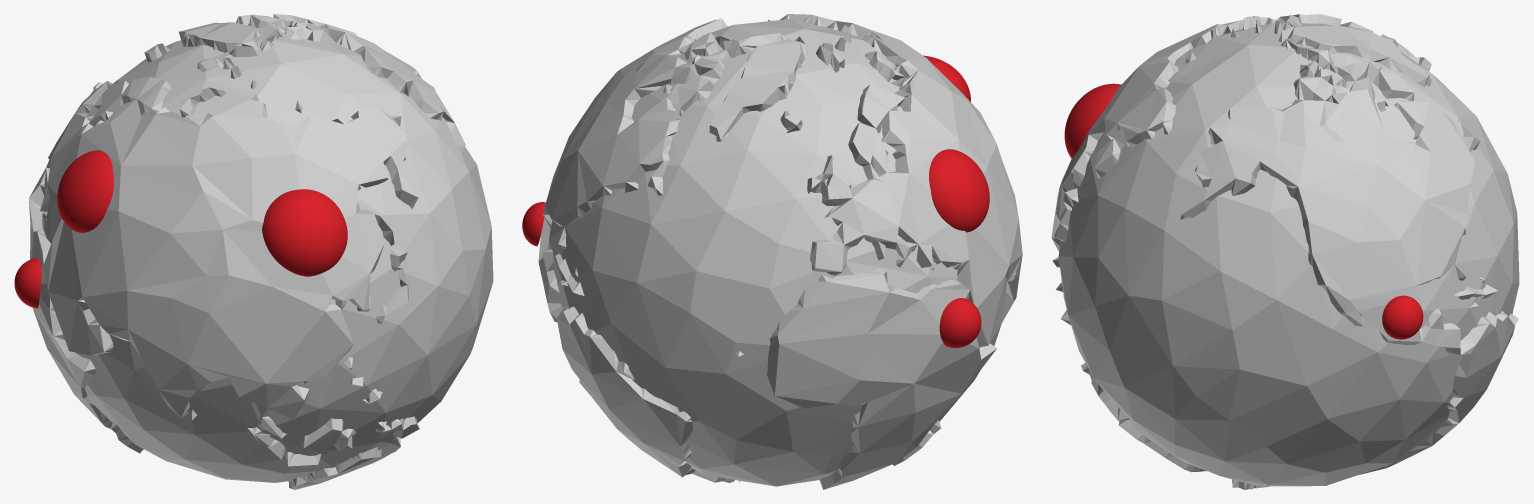
File: lowpoly_earth_edited.fbx
3 renders of one model, left to right at view 1: azimuth 30°, elevation 25°; view 2: azimuth 150°, elevation 25°; view 3: azimuth 270°, elevation 25°, orthographic.
Parts seen in each view (by area): view 1: node_id7, node_id5, node_id71 (×2), node_id9; view 2: node_id7, node_id5, node_id71 (×2), node_id9, node_id77; view 3: node_id5, node_id7, node_id71, node_id77.
Boxes of the visible parts, x1=… form: node_id7: x1=29, y1=14, x2=465, y2=489; node_id5: x1=42, y1=26, x2=493, y2=482; node_id71 (×2): x1=57, y1=150, x2=347, y2=276; node_id9: x1=14, y1=258, x2=41, y2=308; node_id7: x1=538, y1=14, x2=1022, y2=489; node_id5: x1=548, y1=18, x2=1009, y2=486; node_id71 (×2): x1=923, y1=55, x2=989, y2=232; node_id9: x1=939, y1=298, x2=981, y2=347; node_id77: x1=522, y1=202, x2=545, y2=246; node_id5: x1=1058, y1=23, x2=1519, y2=486; node_id7: x1=1051, y1=14, x2=1518, y2=489; node_id71: x1=1064, y1=83, x2=1120, y2=158; node_id77: x1=1382, y1=295, x2=1423, y2=339.
Bounding box in the file's own units: 0.5177 × 0.5075 × 0.4973.
Materials: 6 (4 with a texture image).
